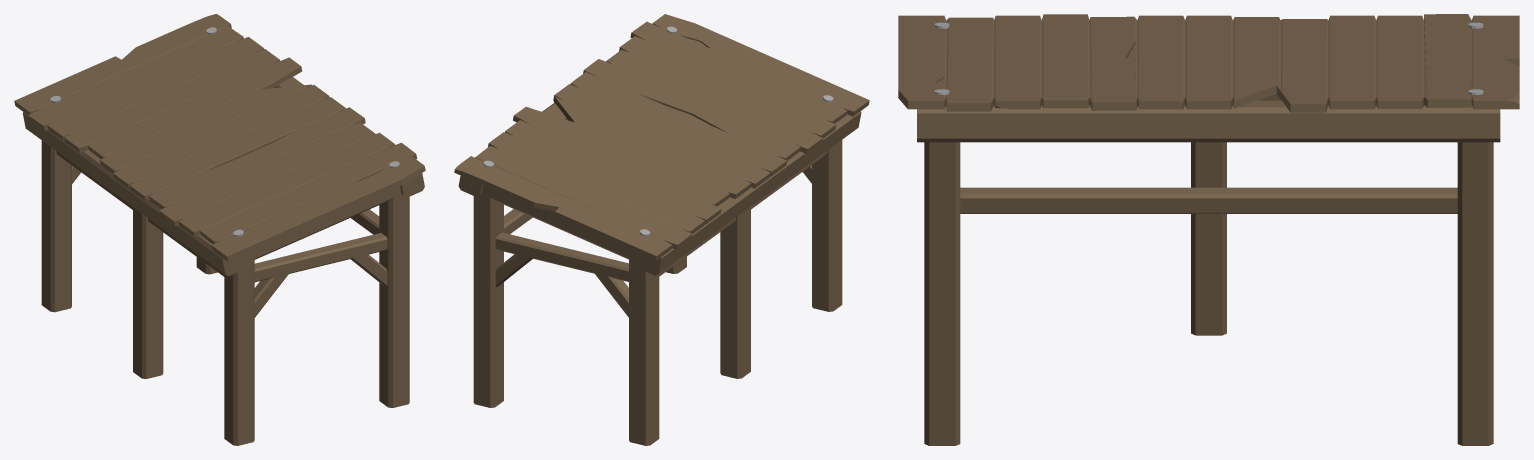
File: Cover 1.fbx
The picture shows the model from 3 angles, left to right: view 1: azimuth 30°, elevation 25°; view 2: azimuth 150°, elevation 25°; view 3: azimuth 270°, elevation 25°; orthographic projection. The views are drawn at different scales.
Parts seen in each view (by area): view 1: Cover 1; view 2: Cover 1; view 3: Cover 1.
Boxes of the visible parts, bbox=[...] form: Cover 1: bbox=[14, 14, 425, 445]; Cover 1: bbox=[454, 14, 869, 445]; Cover 1: bbox=[898, 14, 1519, 445].
Bounding box in the file's own units: 3.62 × 3.92 × 6.25.
